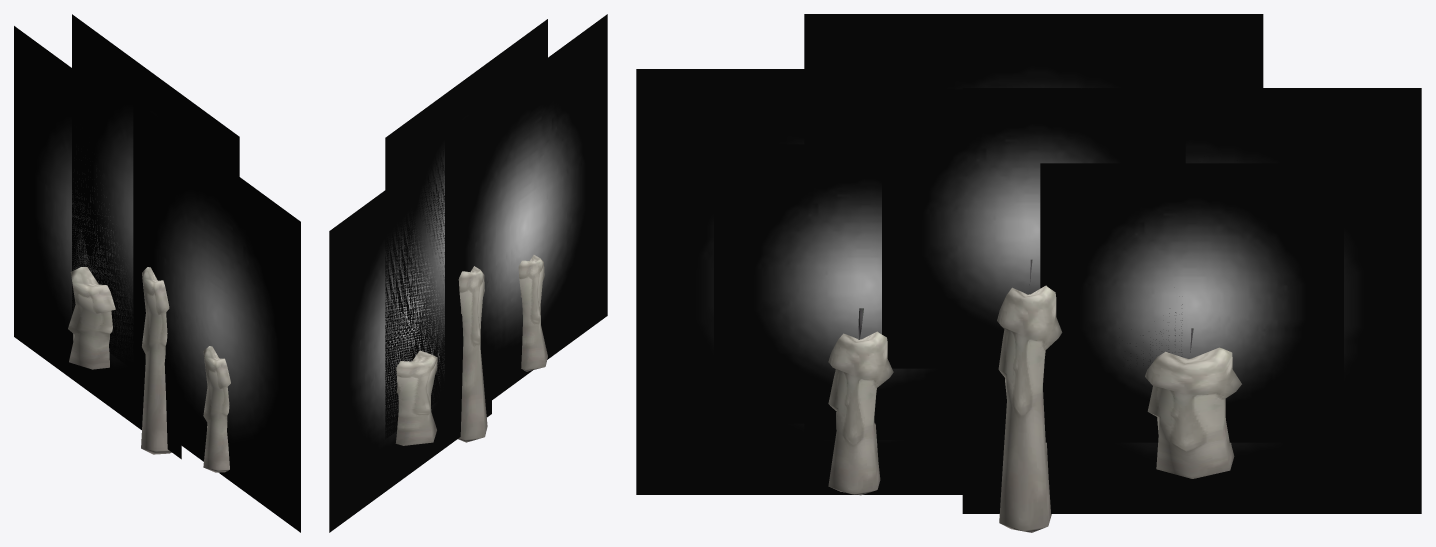
3 renders of one model, left to right at view 1: azimuth 30°, elevation 25°; view 2: azimuth 150°, elevation 25°; view 3: azimuth 270°, elevation 25°, orthographic. The views are drawn at different scales.
Size of the model in its own units: 0.2956 by 1.86 by 2.59.
Materials: 3 (3 with a texture image).
